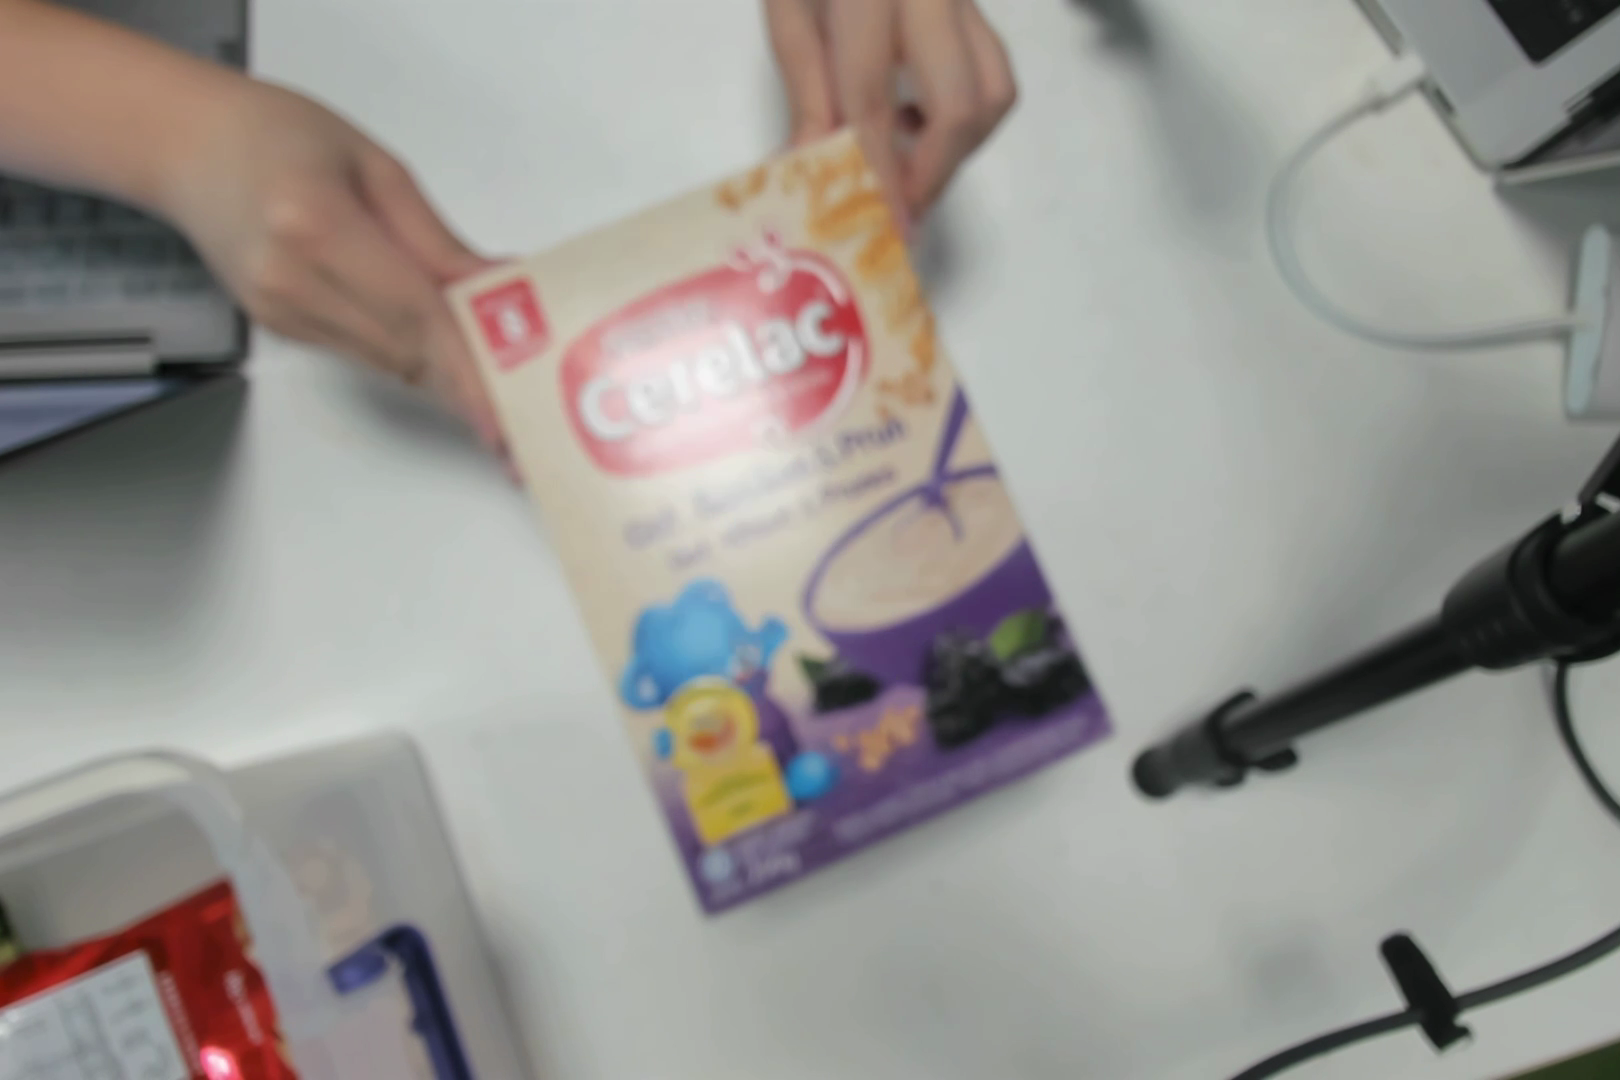d: (472, 276, 1103, 918)
